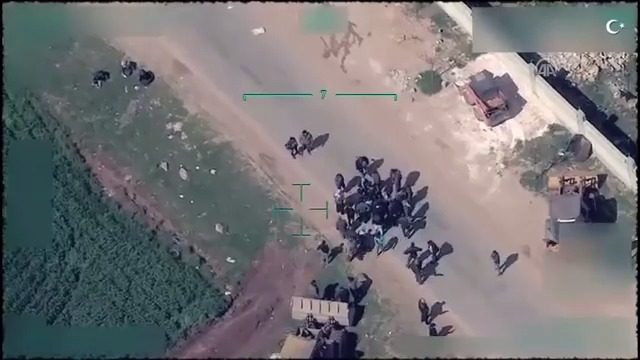insan: (275, 129, 303, 158), (312, 238, 335, 269), (298, 127, 321, 155), (354, 196, 373, 225), (487, 246, 504, 278), (426, 234, 441, 267), (398, 210, 413, 240), (418, 294, 432, 324), (330, 169, 348, 191)
